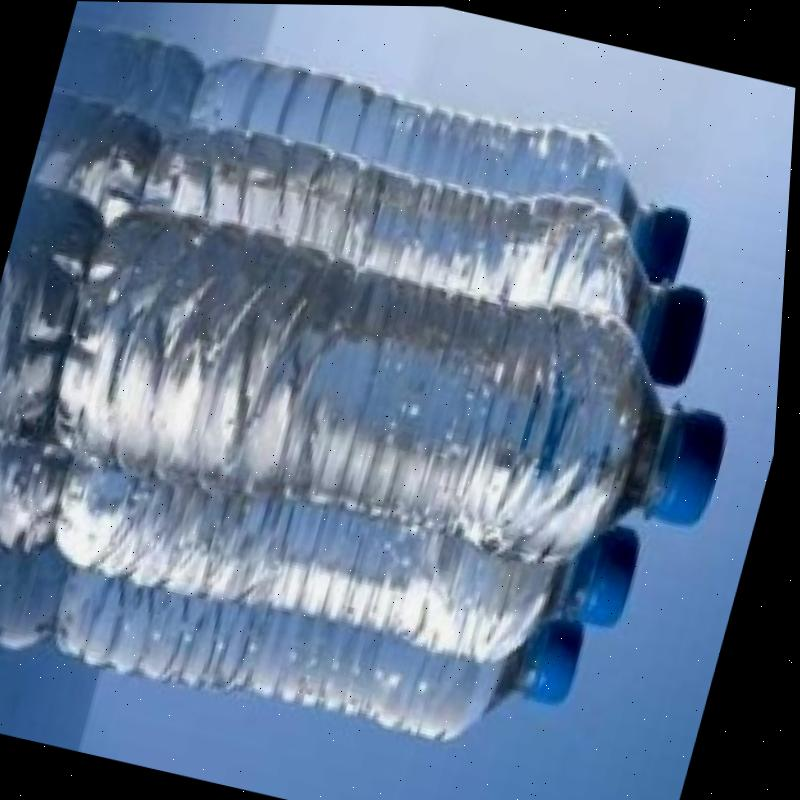botella: (35, 199, 756, 590), (105, 117, 737, 388), (43, 417, 658, 690), (36, 508, 619, 764), (172, 41, 718, 283)
